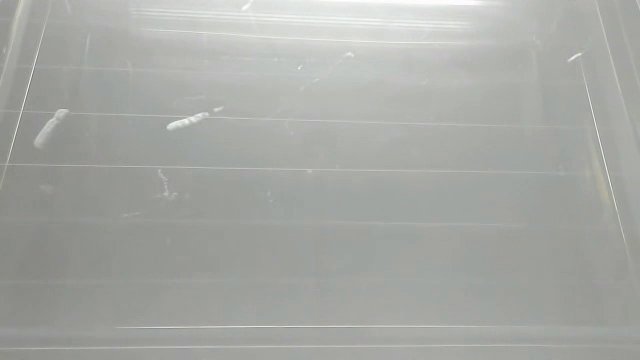alpha: (32, 107, 74, 151), (164, 104, 227, 133)
